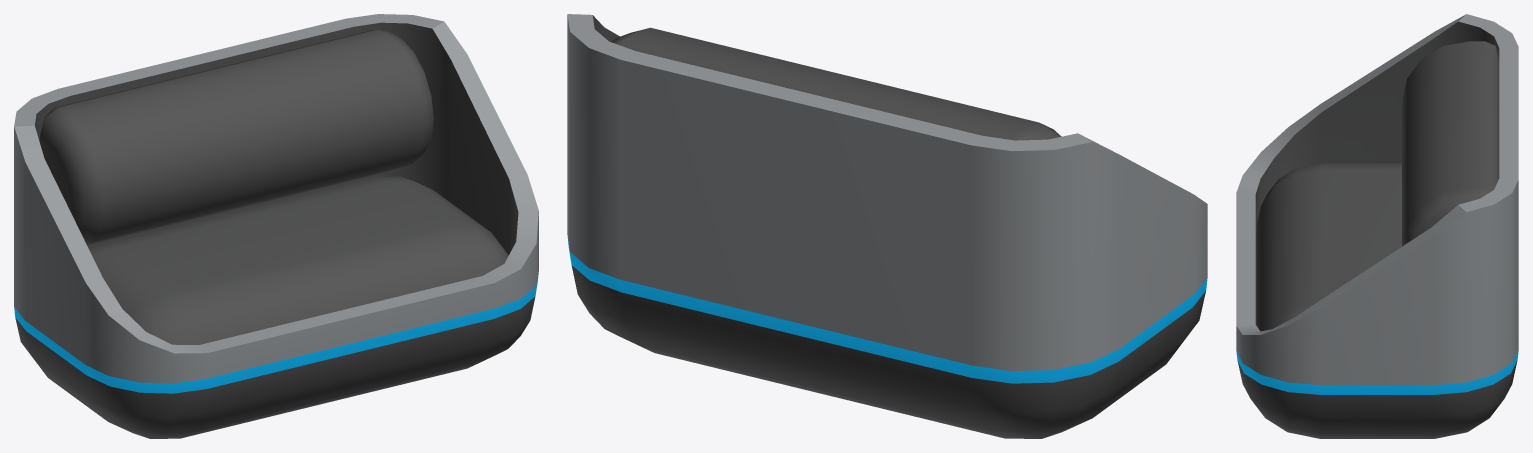
The model's file is Mini_sofa_002.glb.
3 views of the same model, side by side, from view 1: azimuth 30°, elevation 25°; view 2: azimuth 150°, elevation 25°; view 3: azimuth 270°, elevation 25° (orthographic). The views are drawn at different scales.
Visible parts, largest first — view 1: Mini_sofa_002; view 2: Mini_sofa_002; view 3: Mini_sofa_002.
Part boxes in pixels (left/top/right/bottom): Mini_sofa_002: left=14, top=14, right=538, bottom=438; Mini_sofa_002: left=567, top=14, right=1207, bottom=438; Mini_sofa_002: left=1236, top=14, right=1518, bottom=438.
Size of the model in its own units: 1.46 by 0.8432 by 0.8572.
2 materials, 2 textured.
